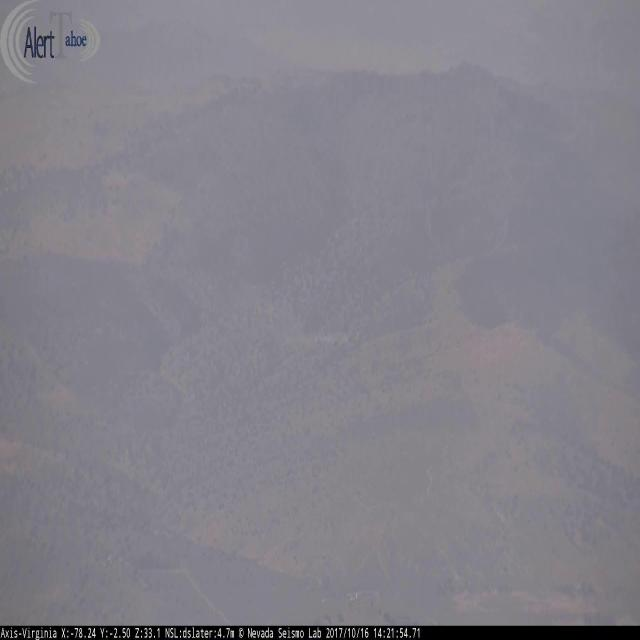smoke: (208, 225, 360, 356)
